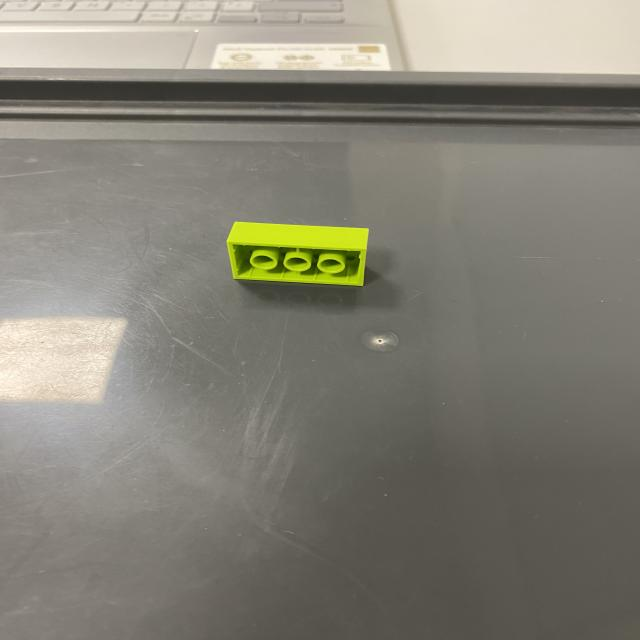C4x2x1: (232, 242, 366, 285), (232, 219, 372, 248)
